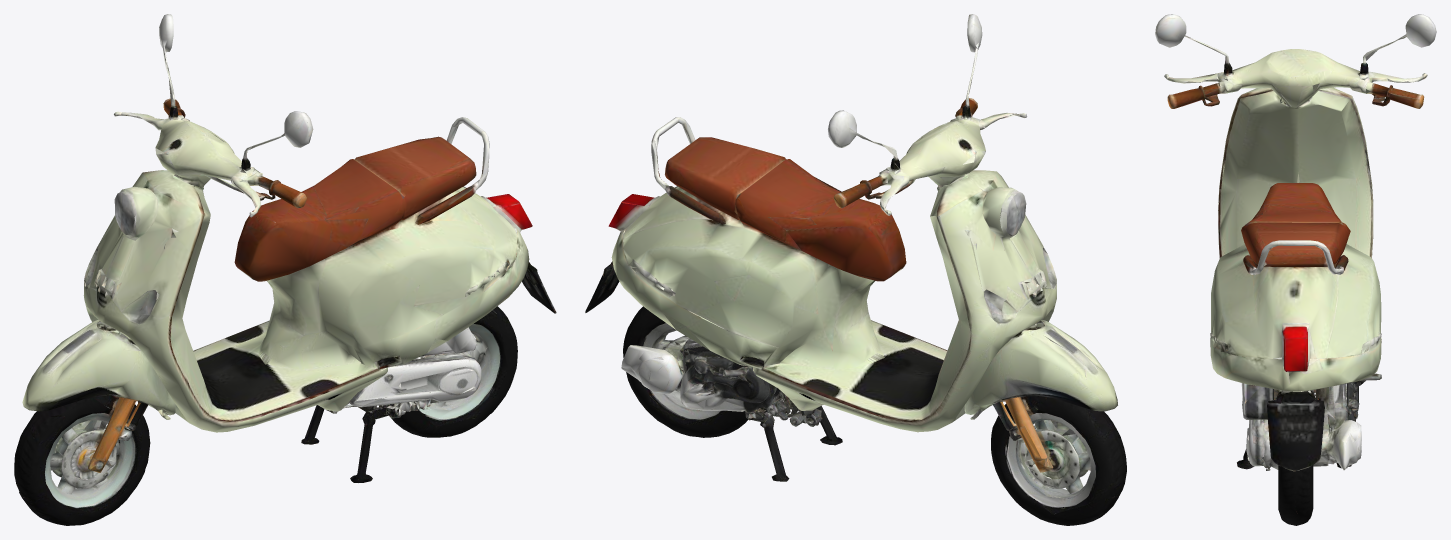
Rendered from scooter_01.glb.
3 renders of one model, left to right at view 1: azimuth 30°, elevation 25°; view 2: azimuth 150°, elevation 25°; view 3: azimuth 270°, elevation 25°, orthographic. The views are drawn at different scales.
Parts seen in each view (by area): view 1: output_unwrapped; view 2: output_unwrapped; view 3: output_unwrapped.
Boxes of the visible parts, <box> form: output_unwrapped: <box>14,14,556,525</box>; output_unwrapped: <box>585,14,1126,525</box>; output_unwrapped: <box>1155,14,1436,525</box>.
Bounding box in the file's own units: 1.9 × 1.44 × 0.9071.
1 material, 1 textured.
